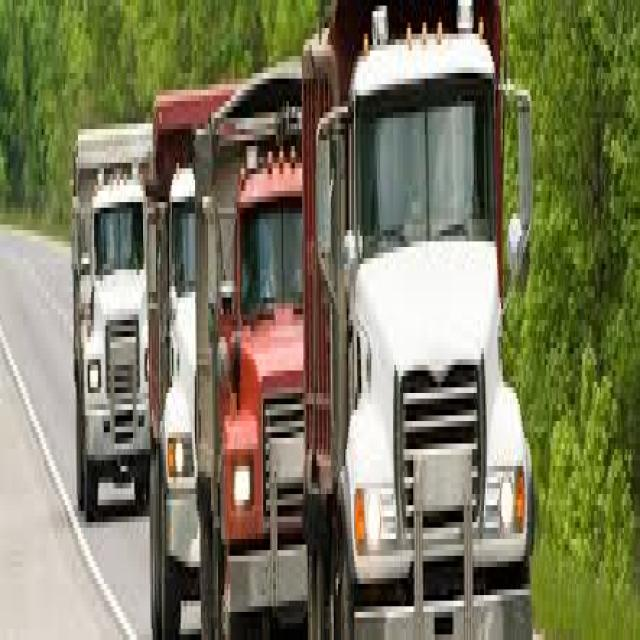dump_truck: (300, 0, 540, 640), (195, 56, 304, 638), (147, 87, 237, 632), (70, 109, 160, 523)
